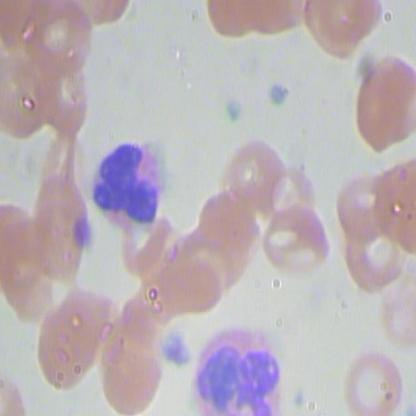Platelets: (157, 330, 194, 369), (266, 76, 291, 113), (223, 94, 248, 130), (72, 214, 96, 250)
RBC: (347, 50, 415, 157), (257, 198, 334, 285), (1, 213, 61, 321), (18, 1, 92, 85), (54, 278, 122, 362), (163, 229, 231, 313), (99, 332, 167, 415), (31, 310, 98, 394), (216, 133, 283, 217), (196, 183, 263, 267), (294, 1, 385, 62), (339, 220, 410, 296), (333, 165, 403, 241), (338, 343, 410, 415), (37, 54, 96, 136), (1, 56, 59, 139), (361, 276, 415, 350), (265, 167, 320, 233)
WBC: (83, 124, 176, 237), (187, 315, 284, 415)
